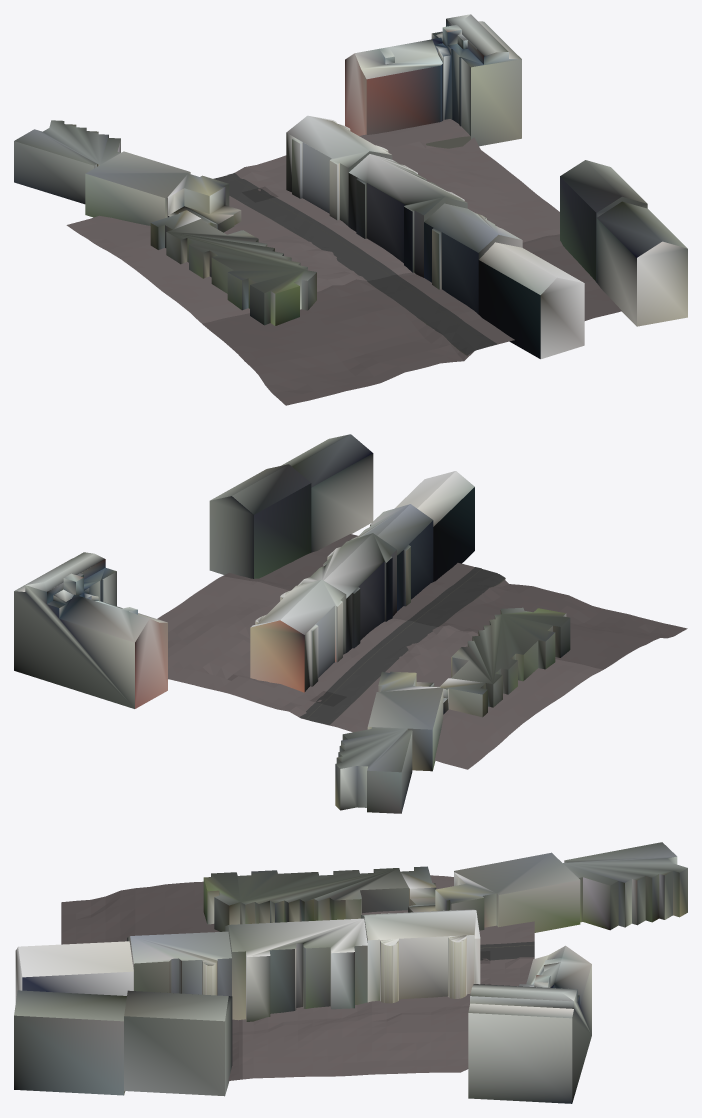
3 views of the same model, one above another, from view 1: azimuth 30°, elevation 25°; view 2: azimuth 150°, elevation 25°; view 3: azimuth 270°, elevation 25° (orthographic). The views are drawn at different scales.
Parts seen in each view (by area): view 1: c_m14_m08, append:c_m14_m08; view 2: c_m14_m08, append:c_m14_m08; view 3: c_m14_m08, append:c_m14_m08.
Boxes of the visible parts, left/top/right/bottom form: c_m14_m08: left=14, top=14, right=687, bottom=405; append:c_m14_m08: left=66, top=119, right=559, bottom=323; c_m14_m08: left=14, top=434, right=687, bottom=813; append:c_m14_m08: left=157, top=576, right=603, bottom=769; c_m14_m08: left=14, top=842, right=687, bottom=1103; append:c_m14_m08: left=242, top=875, right=534, bottom=1079.
Bounding box in the file's own units: 146 × 38.52 × 182.
